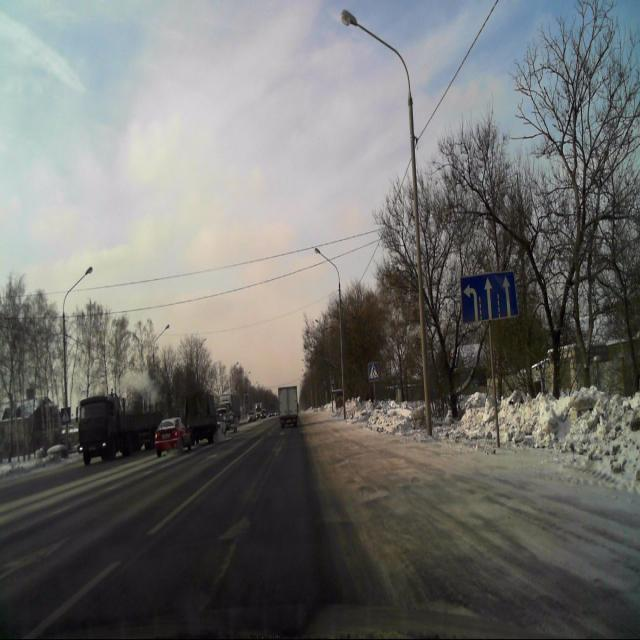road sign: (460, 273, 518, 321), (368, 362, 378, 381)
